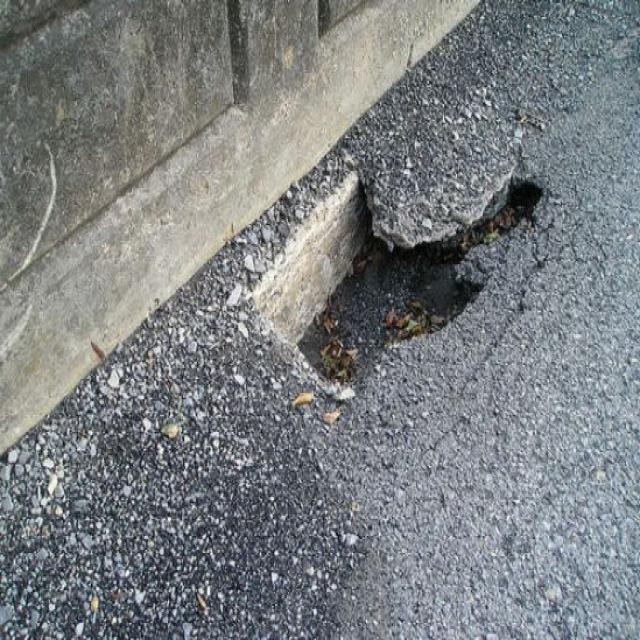Pothole: (254, 159, 553, 411)
